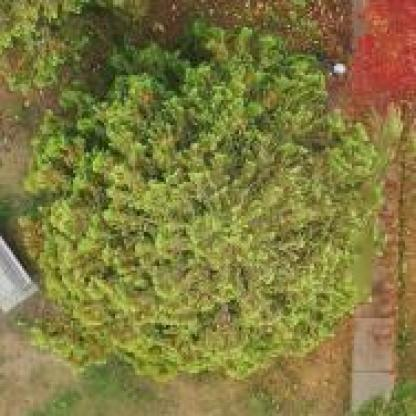Coniferous Tree: (25, 49, 410, 372)
